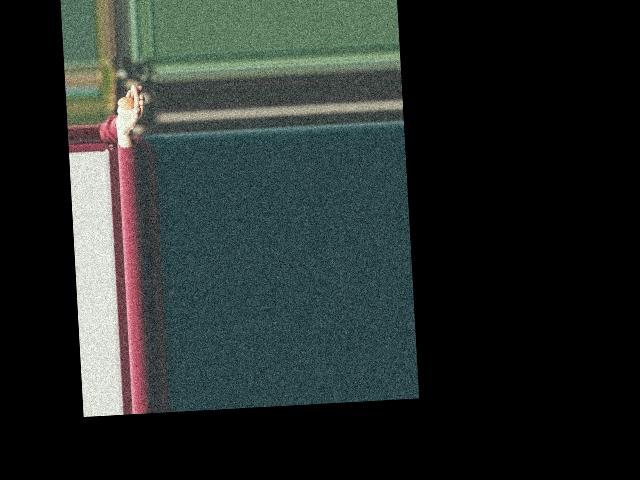egg: (117, 97, 134, 110)
